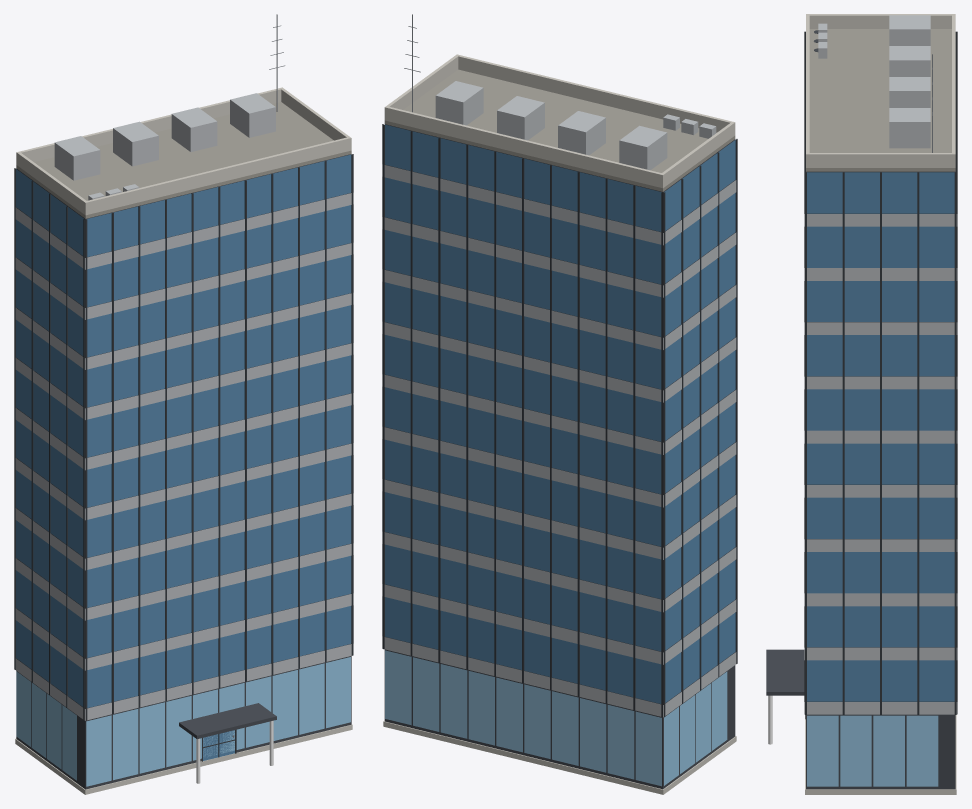
Rendered from predio-comercial-10.glb.
The picture shows the model from 3 angles, left to right: view 1: azimuth 30°, elevation 25°; view 2: azimuth 150°, elevation 25°; view 3: azimuth 270°, elevation 25°; orthographic projection. The views are drawn at different scales.
Visible parts, largest first — view 1: VidroLuz, Molduras, Vidro, Telhado, Detalhes, Paredes; view 2: Vidro, VidroLuz, Molduras, Telhado, Paredes, Detalhes; view 3: Vidro, VidroLuz, Molduras, Telhado, Detalhes, Paredes.
Part boxes in pixels (box(x1,y1,x2,y2)): VidroLuz: box(16, 167, 351, 786); Molduras: box(14, 154, 353, 761); Vidro: box(16, 154, 351, 746); Telhado: box(16, 87, 351, 218); Detalhes: box(54, 14, 285, 783); Paredes: box(15, 154, 352, 794); Vidro: box(385, 124, 735, 786); VidroLuz: box(385, 131, 735, 773); Molduras: box(382, 124, 737, 717); Telhado: box(384, 54, 735, 191); Paredes: box(383, 124, 736, 794); Detalhes: box(404, 14, 716, 170); Vidro: box(807, 172, 954, 786); VidroLuz: box(807, 172, 954, 701); Molduras: box(804, 31, 957, 719); Telhado: box(806, 14, 955, 171); Detalhes: box(766, 15, 932, 744); Paredes: box(805, 171, 956, 794).
Size of the model in its own units: 20.24 by 48.6 by 11.52.
